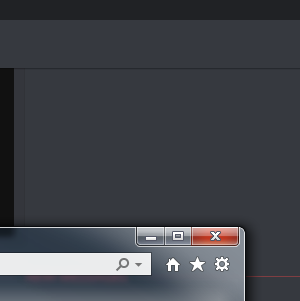close: (191, 226, 239, 245)
